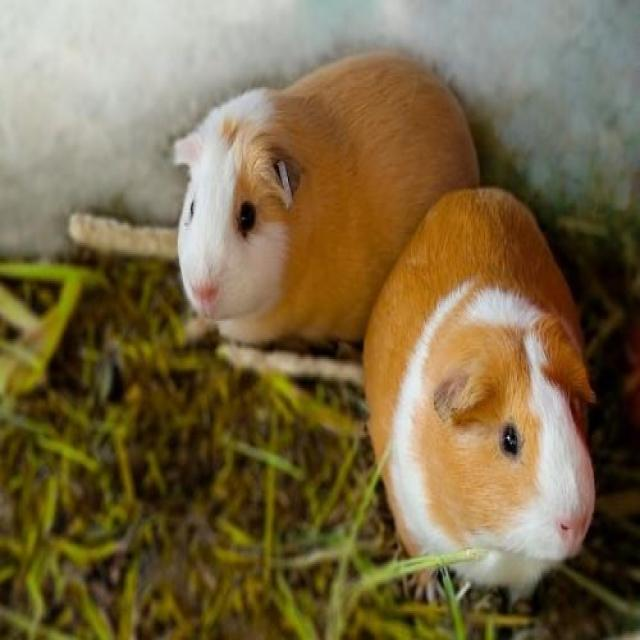guinea pig: (142, 45, 493, 338), (368, 190, 607, 606)
